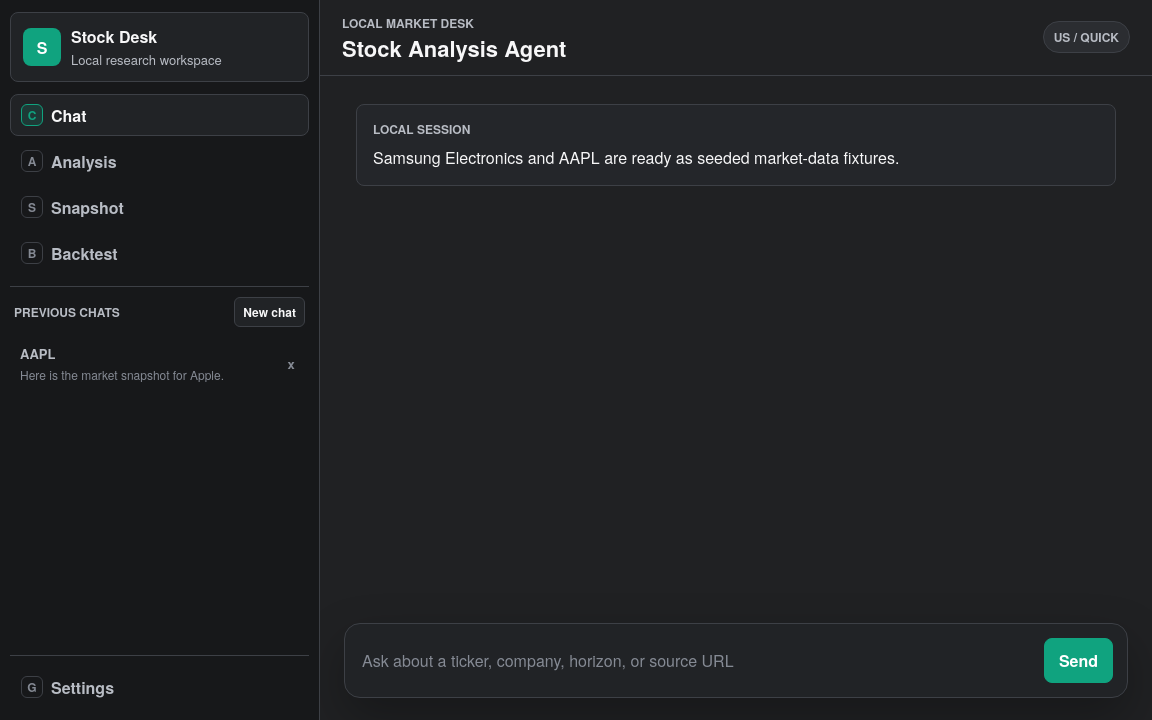
Test: App › loads previous conversations from the left rail
Click the button "AAPL".
click(140, 364)  # box [10, 335, 271, 392]
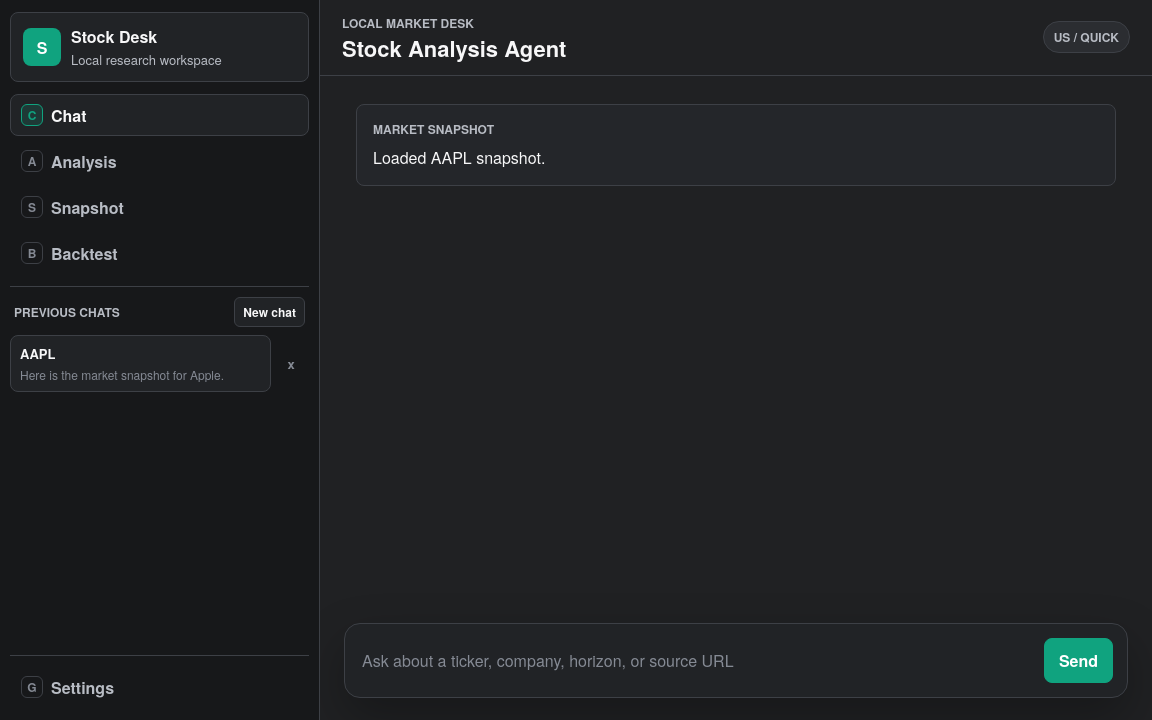
Result: the text "Loaded AAPL snapshot." is shown at [373, 146, 545, 169]
